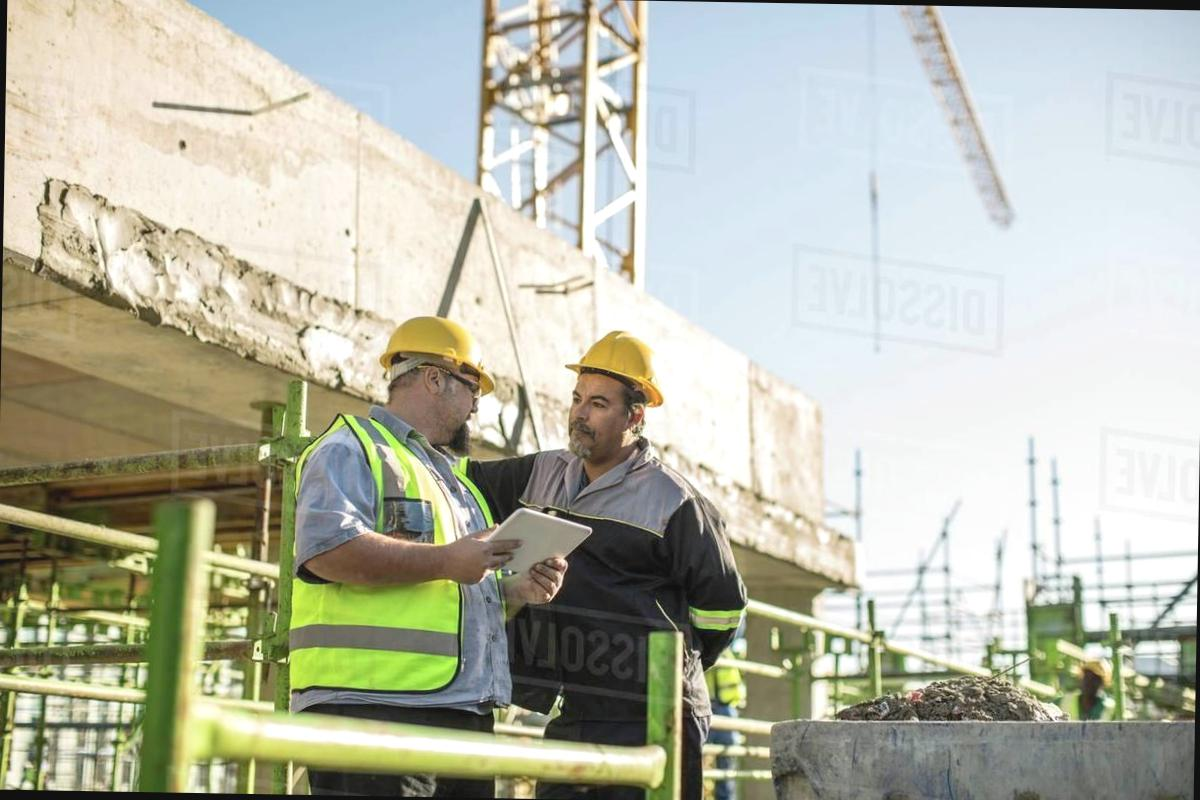helmet: (373, 298, 495, 400), (565, 326, 672, 404)
no_vest: (507, 444, 712, 718)
person: (264, 303, 526, 718), (485, 324, 744, 726)
